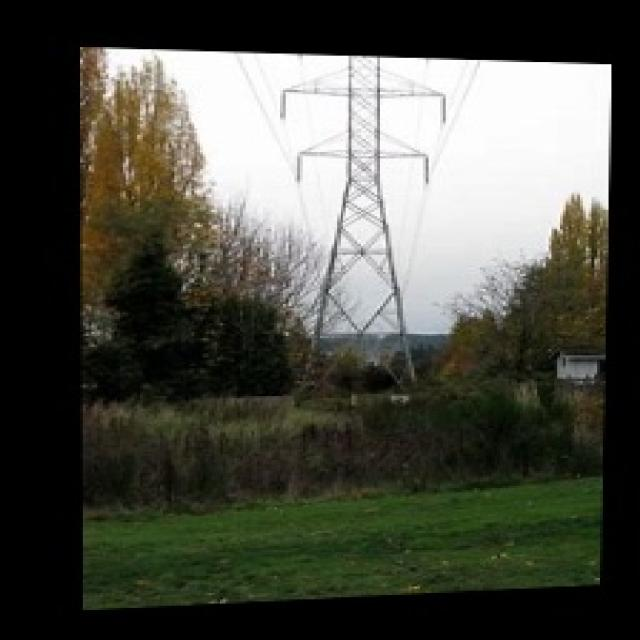utility poles: (220, 245, 348, 396), (368, 293, 496, 399)
